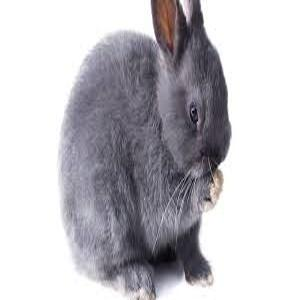rabbit: (59, 0, 230, 299)
